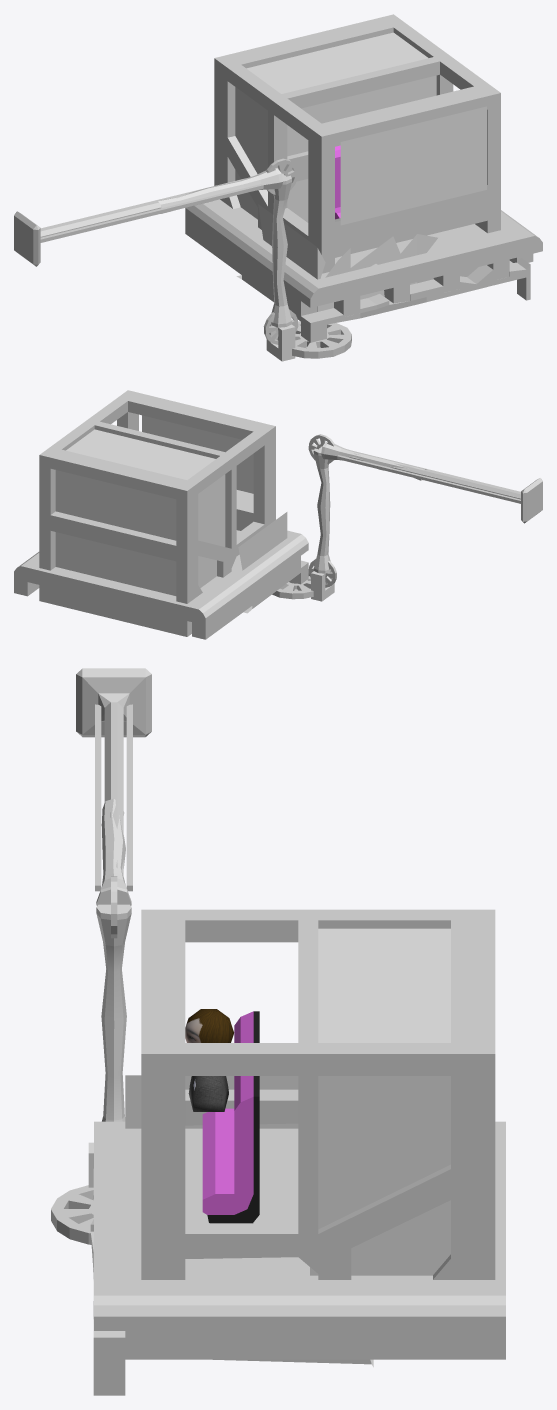
The model's file is TetralegDestroyed3.fbx.
3 views of the same model, one above another, from view 1: azimuth 30°, elevation 25°; view 2: azimuth 150°, elevation 25°; view 3: azimuth 270°, elevation 25° (orthographic). The views are drawn at different scales.
Parts seen in each view (by area): view 1: MetalSkeleton, MouthMetal, Glass, MetalCage, MainBody, ExtendibleLeg, UpperLeg, LowerLeg, LegWheel, LegJoint, Stool; view 2: MetalSkeleton, MetalCage, MouthMetal, ExtendibleLeg, Glass, MainBody, UpperLeg, LowerLeg, LegWheel, LegJoint; view 3: MetalSkeleton, MouthMetal, MetalCage, ExtendibleLeg, Stool, MainBody, UpperLeg, Driver, LowerLeg, LegWheel.
Part boxes in pixels (x1=…): MetalSkeleton: x1=214, y1=14, x2=500, y2=283; MouthMetal: x1=185, y1=199, x2=542, y2=317; Glass: x1=340, y1=106, x2=486, y2=225; MetalCage: x1=235, y1=32, x2=436, y2=222; MainBody: x1=236, y1=204, x2=530, y2=347; ExtendibleLeg: x1=14, y1=178, x2=263, y2=266; UpperLeg: x1=263, y1=173, x2=298, y2=344; LowerLeg: x1=158, y1=158, x2=298, y2=213; LegWheel: x1=292, y1=321, x2=351, y2=358; LegJoint: x1=266, y1=323, x2=295, y2=361; Stool: x1=335, y1=145, x2=340, y2=219; MetalSkeleton: x1=39, y1=390, x2=275, y2=636; MetalCage: x1=55, y1=429, x2=225, y2=595; MouthMetal: x1=14, y1=530, x2=308, y2=639; ExtendibleLeg: x1=337, y1=451, x2=542, y2=523; Glass: x1=142, y1=415, x2=253, y2=493; MainBody: x1=238, y1=512, x2=308, y2=613; UpperLeg: x1=308, y1=446, x2=336, y2=587; LowerLeg: x1=308, y1=434, x2=426, y2=480; LegWheel: x1=272, y1=573, x2=313, y2=599; LegJoint: x1=311, y1=570, x2=334, y2=601; MetalSkeleton: x1=141, y1=909, x2=495, y2=1279; MouthMetal: x1=94, y1=1121, x2=505, y2=1359; MetalCage: x1=310, y1=928, x2=450, y2=1275; ExtendibleLeg: x1=76, y1=668, x2=151, y2=891; Stool: x1=202, y1=1011, x2=259, y2=1223; MainBody: x1=90, y1=1075, x2=373, y2=1395; UpperLeg: x1=96, y1=904, x2=131, y2=1121; Driver: x1=185, y1=1009, x2=233, y2=1111; LowerLeg: x1=96, y1=798, x2=131, y2=938; LegWheel: x1=51, y1=1185, x2=93, y2=1244.
Size of the model in its own units: 1545 by 584 by 720.
